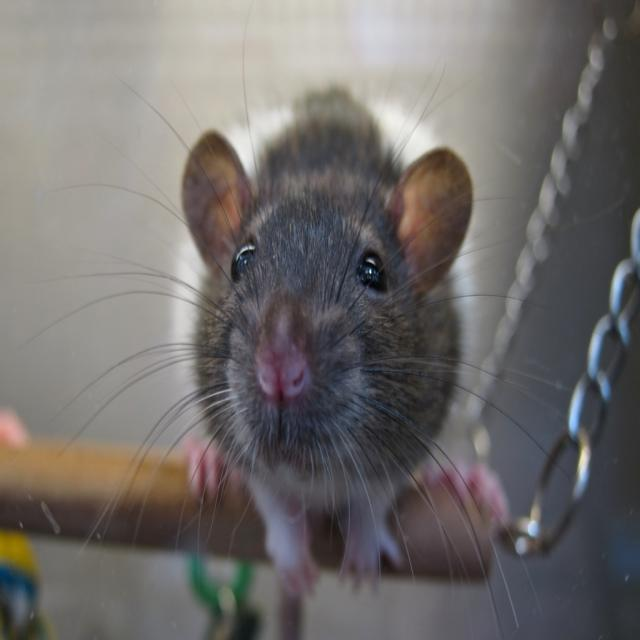rat: (181, 88, 516, 640)
